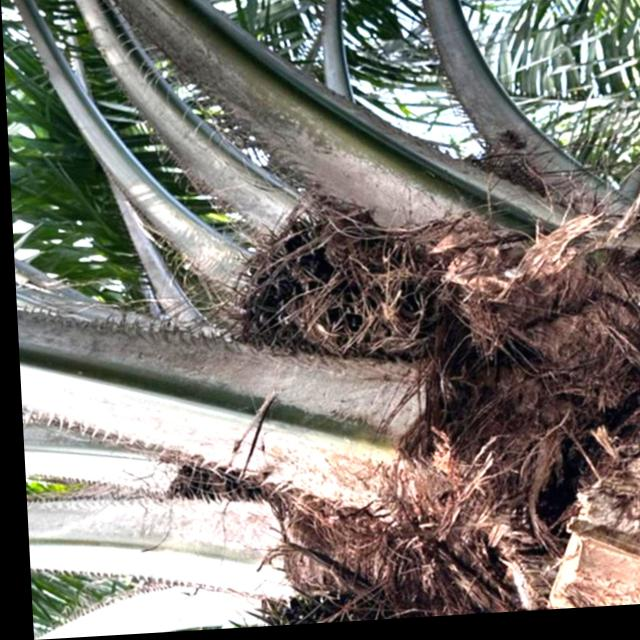unripe: (203, 185, 437, 405)
